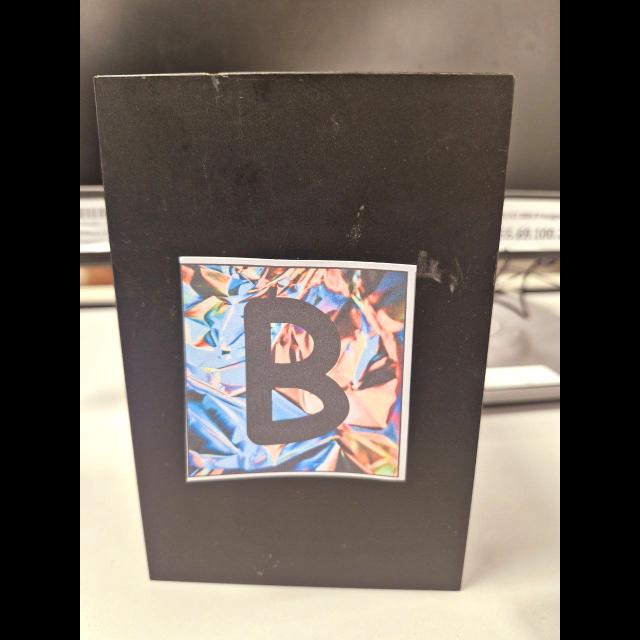B: (244, 297, 349, 444)
